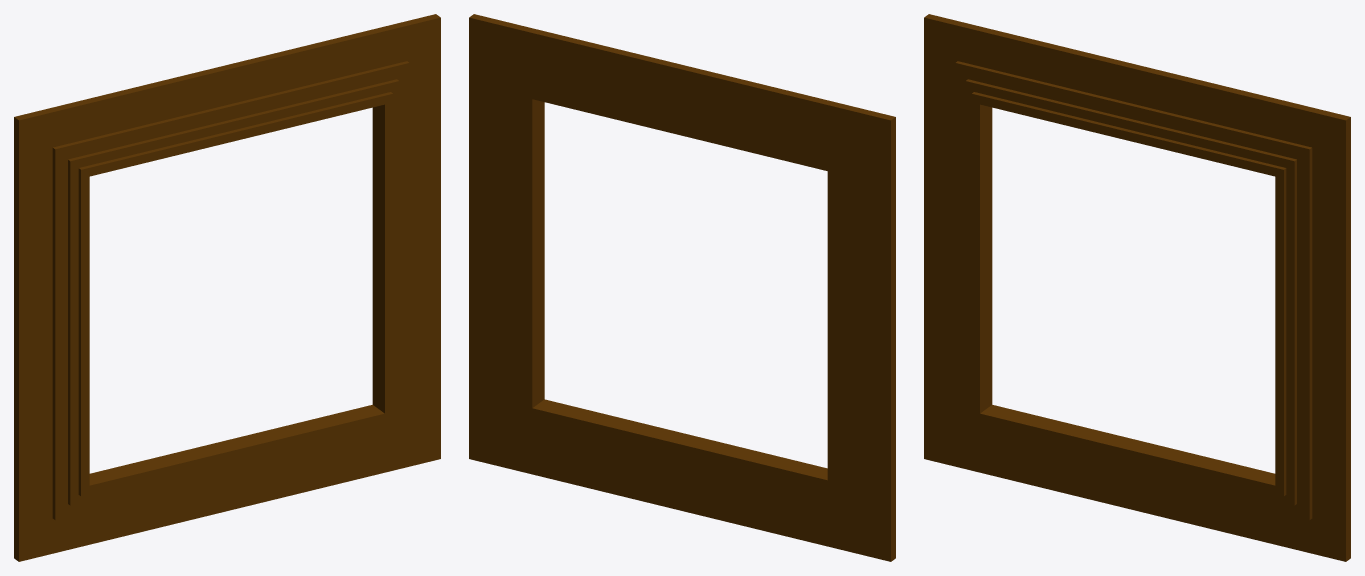
The model's file is fenetre_tour.obj.
3 views of the same model, side by side, from view 1: azimuth 30°, elevation 25°; view 2: azimuth 150°, elevation 25°; view 3: azimuth 330°, elevation 25° (orthographic).
Size of the model in its own units: 100 by 100 by 5.
Materials: 1 (1 with a texture image).
